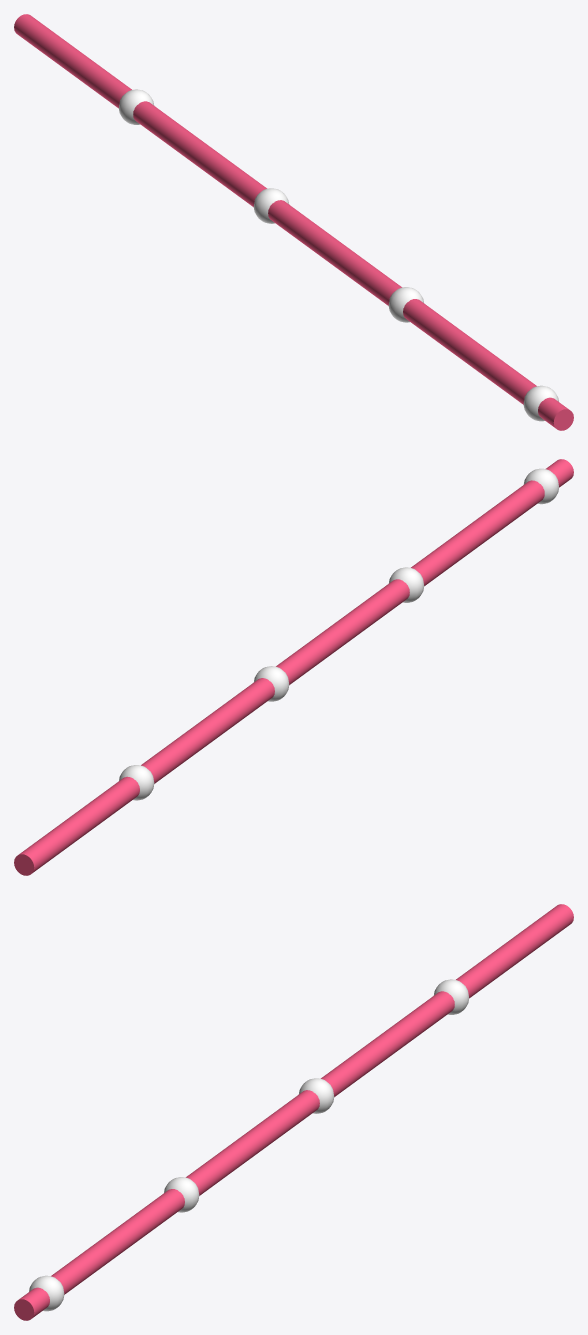
Rendered from rail_left.glb.
The picture shows the model from 3 angles, top to bottom: view 1: azimuth 30°, elevation 25°; view 2: azimuth 150°, elevation 25°; view 3: azimuth 330°, elevation 25°; orthographic projection.
Visible parts, largest first — view 1: RailTube, Joint.003, Joint, Joint.001, Joint.002; view 2: RailTube, Joint.001, Joint, Joint.003, Joint.002; view 3: RailTube, Joint.003, Joint, Joint.001, Joint.002.
Boxes of the visible parts, x1,y1,x2,y2 form: RailTube: (14,14,573,430); Joint.003: (118,89,154,124); Joint: (523,385,558,421); Joint.001: (388,287,423,322); Joint.002: (253,188,289,223); RailTube: (14,459,573,875); Joint.001: (388,567,424,602); Joint: (523,468,559,504); Joint.003: (119,765,154,800); Joint.002: (253,666,289,701); RailTube: (14,904,573,1320); Joint.003: (433,979,469,1014); Joint: (29,1275,64,1311); Joint.001: (164,1177,199,1212); Joint.002: (298,1078,334,1113).
Size of the model in its own units: 0.4 by 0.4 by 12.
